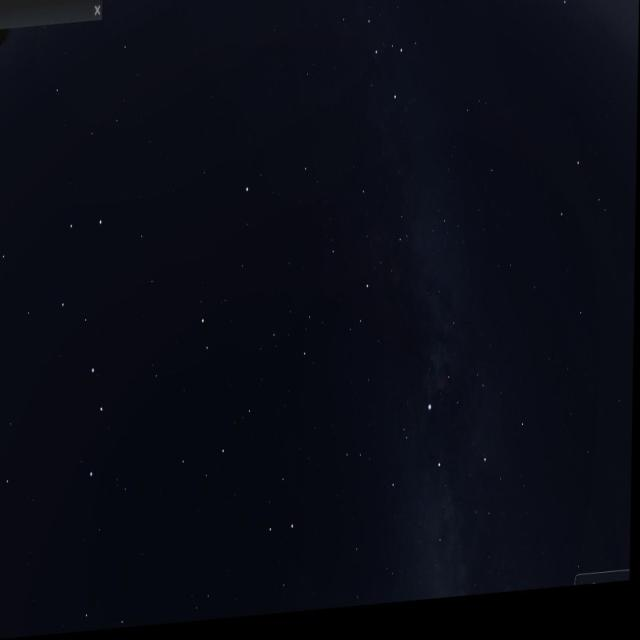cassiopeia: (324, 3, 425, 118)
cygnus: (383, 387, 495, 603)
ursa_major: (40, 205, 121, 486)
